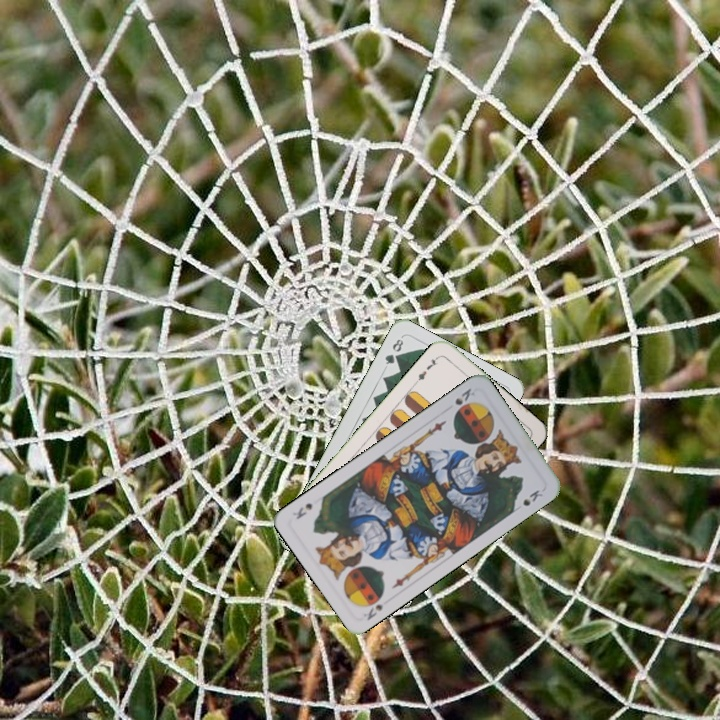E7: (411, 352, 442, 385)
G8: (381, 335, 406, 367)
SK: (359, 590, 386, 623), (451, 384, 478, 408)
